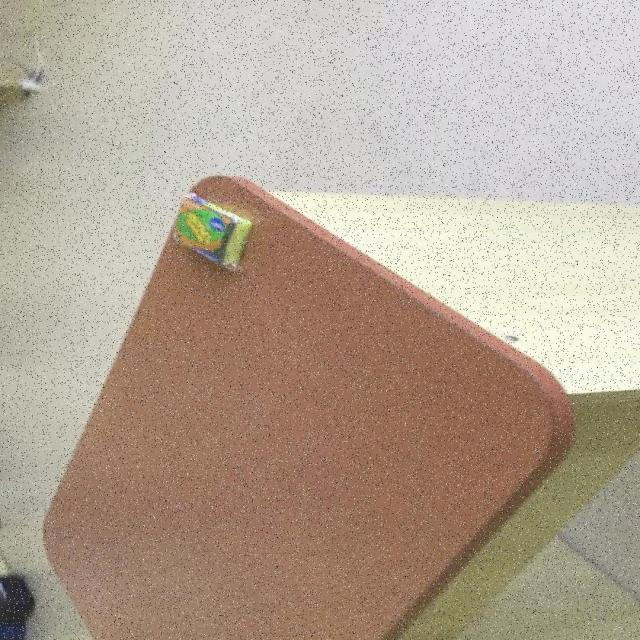Sponge: (172, 191, 255, 271)
